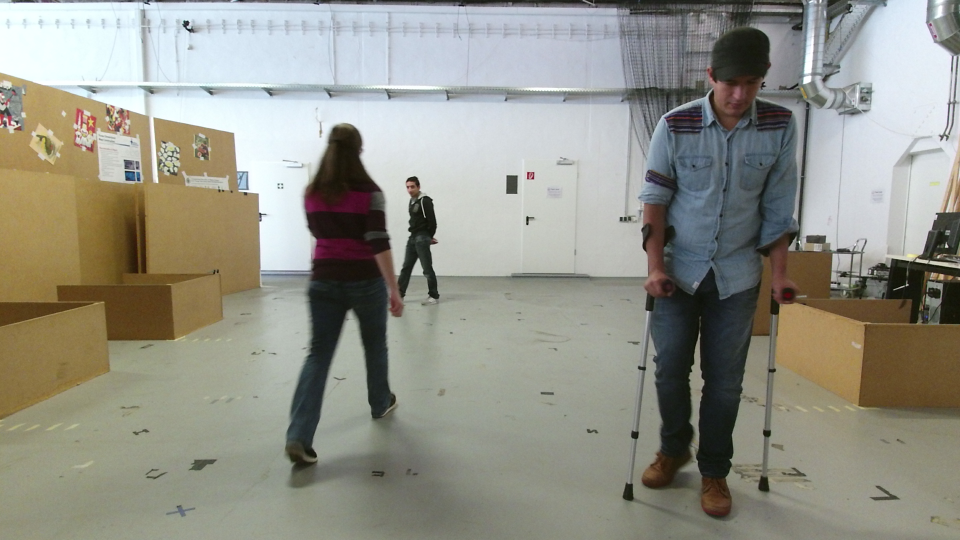crutches: (624, 30, 800, 528)
